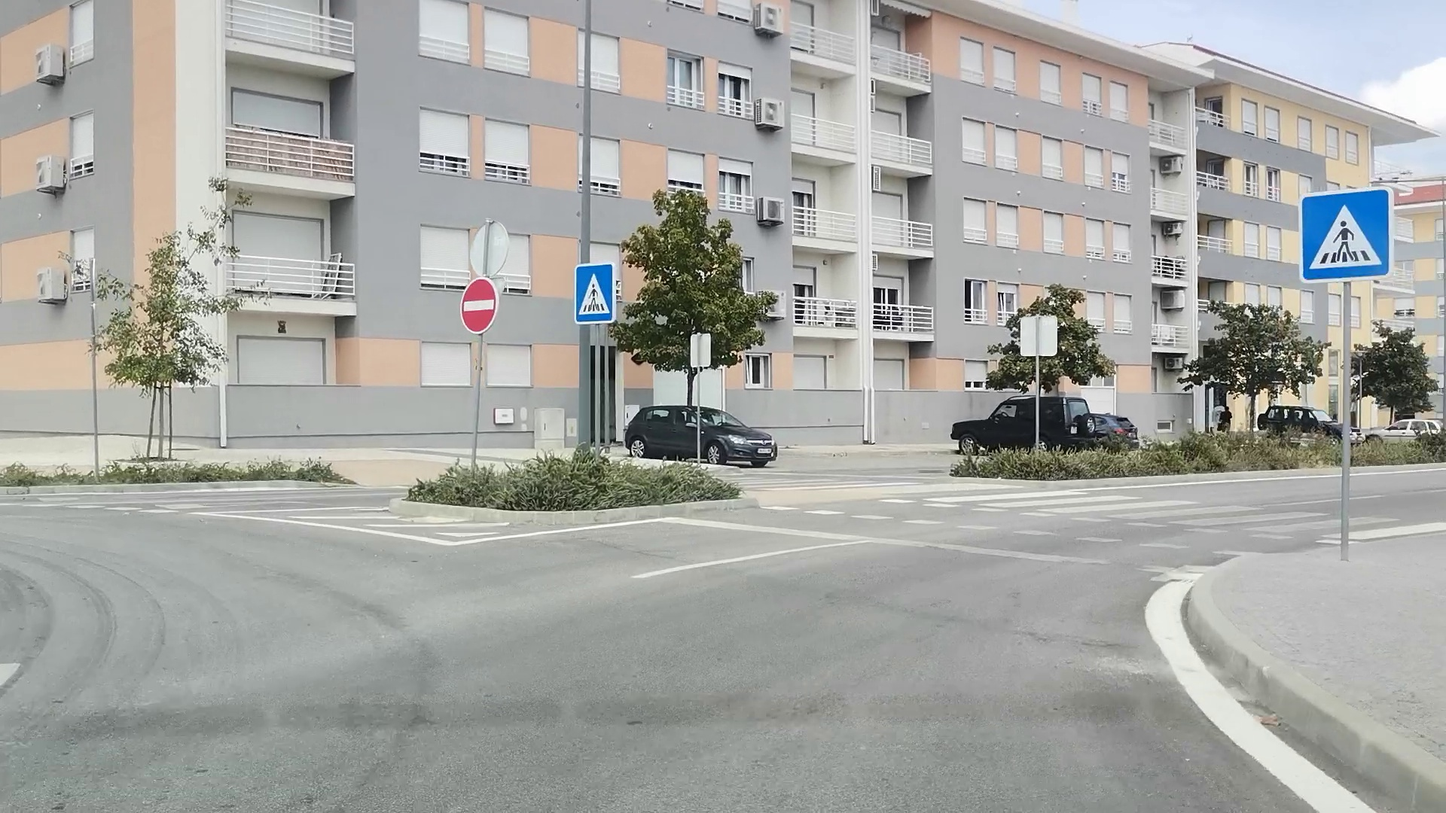Stairs: (854, 479, 1430, 552)
